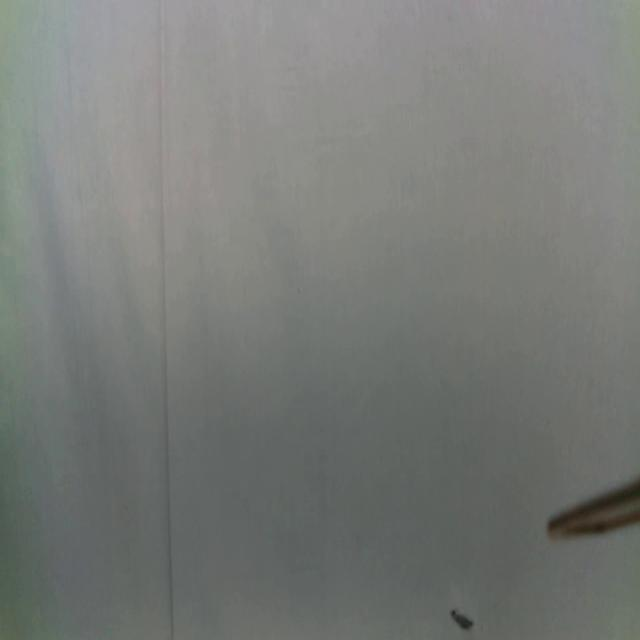crease: (157, 0, 177, 640)
hole: (449, 607, 474, 635)
